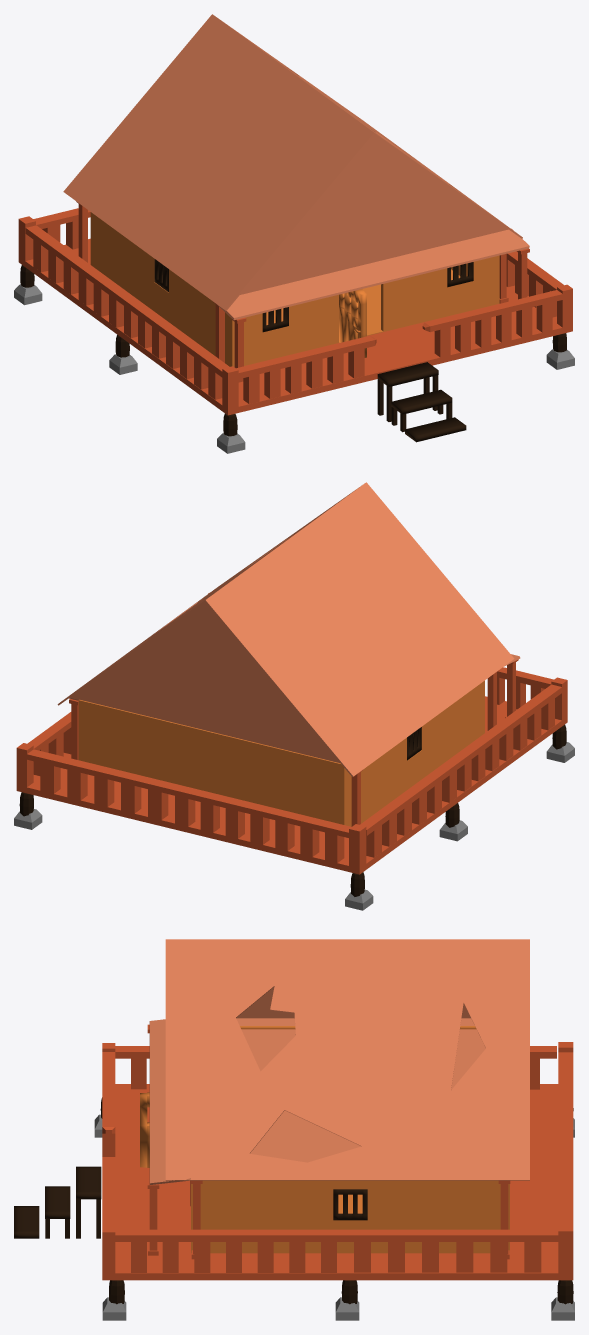
Rendered from home_sunda_aja.glb.
3 renders of one model, top to bottom at view 1: azimuth 30°, elevation 25°; view 2: azimuth 150°, elevation 25°; view 3: azimuth 270°, elevation 25°, orthographic. The views are drawn at different scales.
Parts seen in each view (by area): view 1: home_sunda, penyangga_anak_tangga; view 2: home_sunda; view 3: home_sunda, penyangga_anak_tangga.
Boxes of the visible parts, x1=… form: home_sunda: x1=14, y1=14, x2=574, y2=453; penyangga_anak_tangga: x1=377, y1=375, x2=452, y2=432; home_sunda: x1=14, y1=482, x2=574, y2=910; home_sunda: x1=14, y1=939, x2=574, y2=1320; penyangga_anak_tangga: x1=45, y1=1199, x2=100, y2=1238.
Size of the model in its own units: 12.58 by 8.72 by 15.48.
